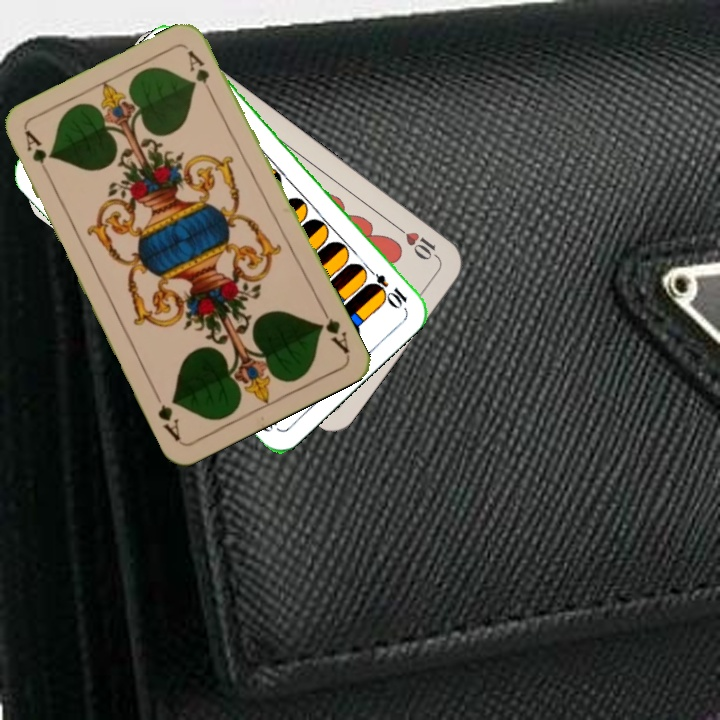E10: (360, 262, 410, 310)
GA: (314, 303, 352, 356), (20, 127, 54, 183)
H10: (391, 221, 442, 263)
